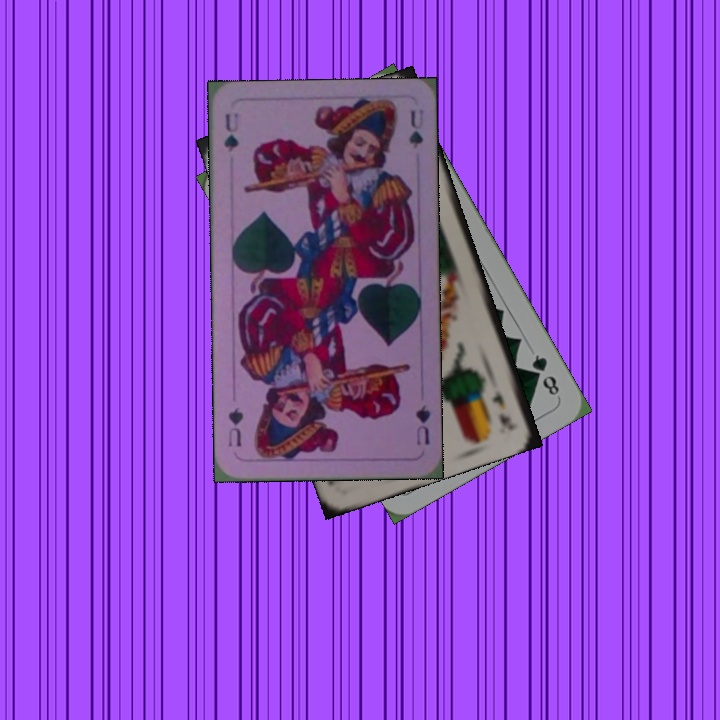EK: (489, 387, 513, 430)
G8: (527, 350, 562, 400)
GU: (411, 401, 433, 448), (220, 109, 241, 154)
